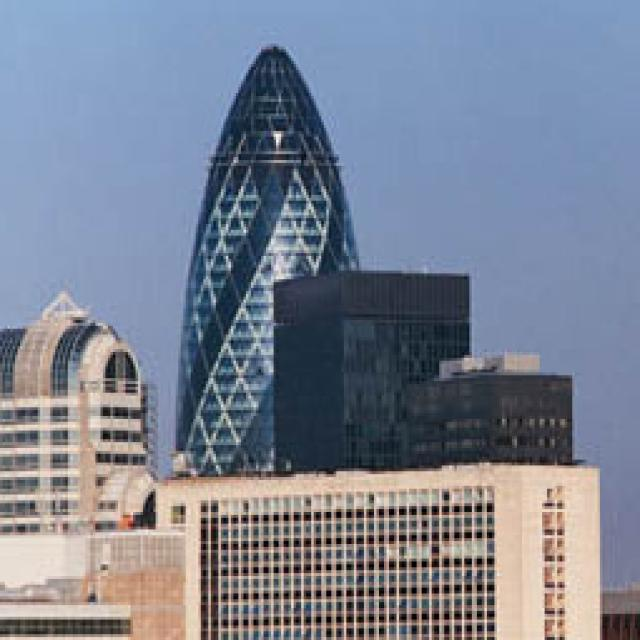building: (174, 46, 362, 473), (157, 468, 601, 640), (274, 268, 470, 471), (0, 284, 155, 530), (412, 354, 574, 466)
